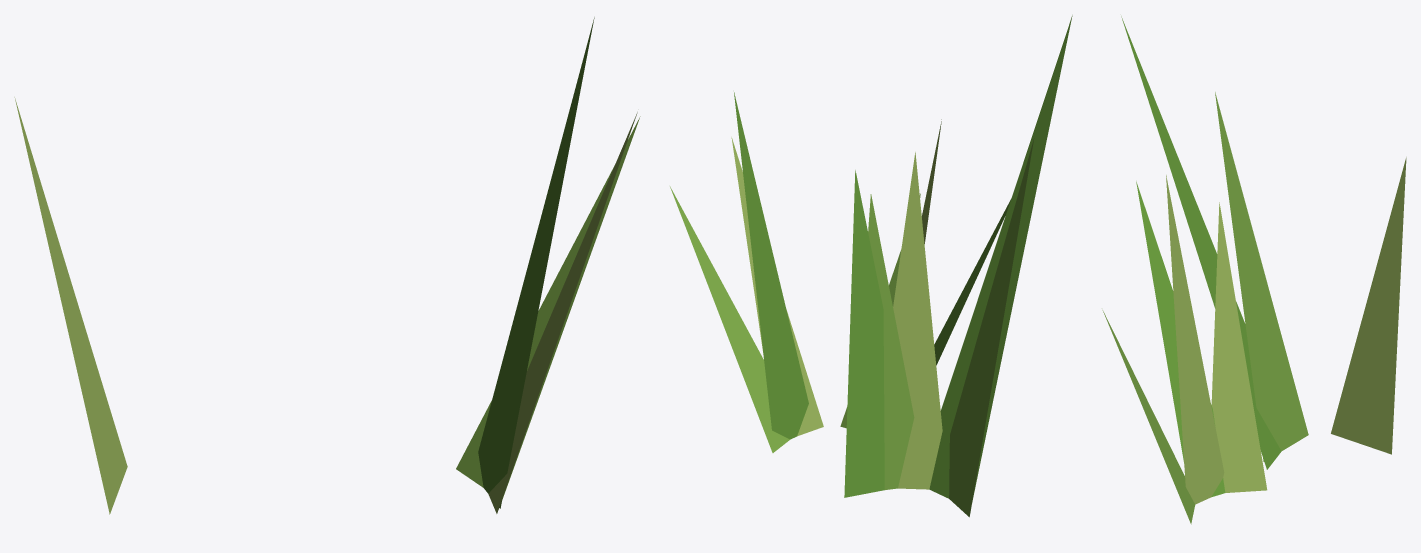
Rendered from cover-tuft.glb.
3 renders of one model, left to right at view 1: azimuth 30°, elevation 25°; view 2: azimuth 150°, elevation 25°; view 3: azimuth 270°, elevation 25°, orthographic. The views are drawn at different scales.
Visible parts, largest first — view 1: cover-tuft; view 2: cover-tuft; view 3: cover-tuft.
Part boxes in pixels (x1,y1,x2,y2): cover-tuft: (14, 17, 640, 514); cover-tuft: (670, 15, 1072, 517); cover-tuft: (1102, 16, 1406, 524).
Size of the model in its own units: 0.3873 by 0.4443 by 0.2935.
